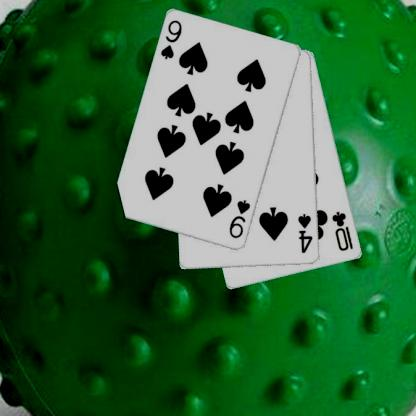10C: (329, 208, 355, 252)
4S: (296, 212, 314, 255)
9S: (226, 197, 252, 240), (158, 17, 183, 61)
